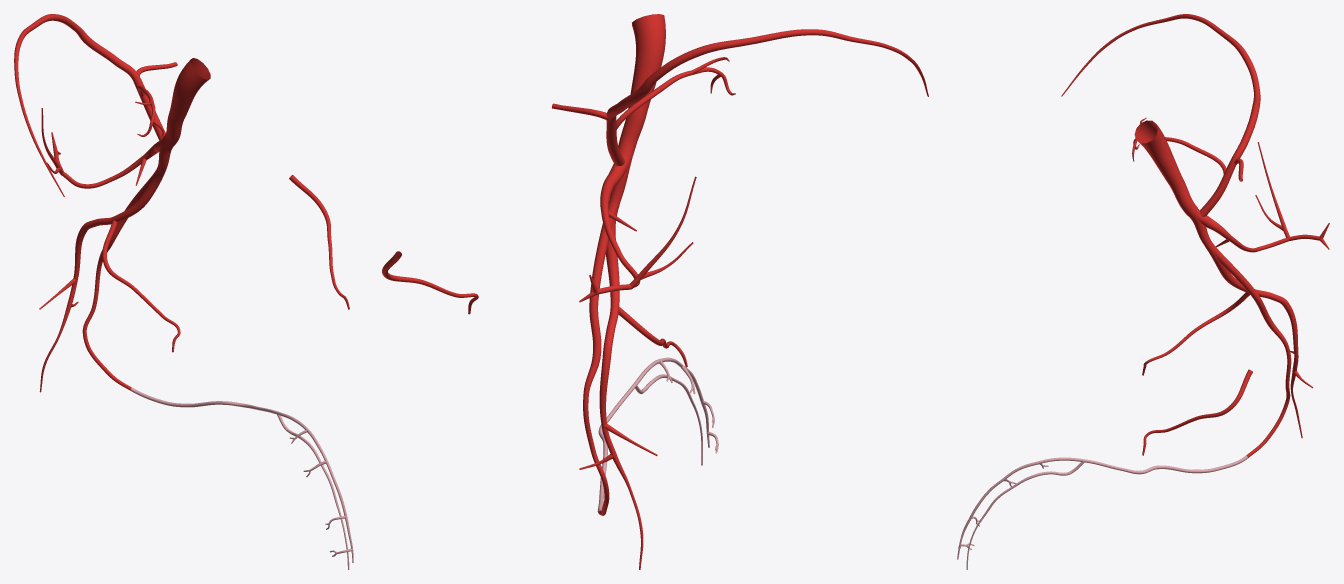
The model's file is circulatorio-internal-iliac-artery-r.glb.
3 views of the same model, side by side, from view 1: azimuth 30°, elevation 25°; view 2: azimuth 150°, elevation 25°; view 3: azimuth 270°, elevation 25° (orthographic). The views are drawn at different scales.
Visible parts, largest first — view 1: Internal iliac artery.r, Inferior gluteal artery.r, Iliacus branch of iliolumbar artery.r, Dorsal artery of penis.r, Superior gluteal artery.r, Internal pudendal artery.r, Obturator artery.r, Obturator artery.l, Deep artery of penis.r; view 2: Internal iliac artery.r, Inferior gluteal artery.r, Iliacus branch of iliolumbar artery.r, Internal pudendal artery.r, Superior gluteal artery.r, Dorsal artery of penis.r, Lumbar branch of iliolumbar artery.r, Obturator artery.l; view 3: Internal iliac artery.r, Iliacus branch of iliolumbar artery.r, Internal pudendal artery.r, Dorsal artery of penis.r, Superior gluteal artery.r, Inferior gluteal artery.r, Obturator artery.l, Obturator artery.r, Iliolumbar artery.r, Deep artery of penis.r.
Boxes of the visible parts, box(x1,y1,x2,y2) form: Internal iliac artery.r: box(163, 58, 210, 146); Inferior gluteal artery.r: box(39, 168, 165, 392); Iliacus branch of iliolumbar artery.r: box(14, 14, 140, 196); Dorsal artery of penis.r: box(130, 387, 353, 562); Superior gluteal artery.r: box(41, 108, 159, 188); Internal pudendal artery.r: box(82, 167, 165, 390); Obturator artery.r: box(102, 220, 180, 352); Obturator artery.l: box(289, 175, 349, 309); Deep artery of penis.r: box(277, 414, 349, 569); Internal iliac artery.r: box(618, 14, 665, 155); Inferior gluteal artery.r: box(579, 201, 657, 569); Iliacus branch of iliolumbar artery.r: box(606, 29, 928, 122); Internal pudendal artery.r: box(583, 204, 616, 515); Superior gluteal artery.r: box(579, 169, 696, 302); Dorsal artery of penis.r: box(597, 357, 718, 514); Lumbar branch of iliolumbar artery.r: box(616, 57, 735, 129); Obturator artery.l: box(382, 251, 478, 314); Internal iliac artery.r: box(1134, 120, 1197, 216); Iliacus branch of iliolumbar artery.r: box(1061, 14, 1260, 164); Internal pudendal artery.r: box(1212, 244, 1291, 457); Dorsal artery of penis.r: box(957, 456, 1247, 559); Superior gluteal artery.r: box(1204, 142, 1329, 252); Inferior gluteal artery.r: box(1205, 242, 1313, 438); Obturator artery.l: box(1142, 369, 1252, 455); Obturator artery.r: box(1142, 292, 1249, 375); Iliolumbar artery.r: box(1200, 162, 1236, 216); Deep artery of penis.r: box(966, 461, 1084, 569).
Bounding box in the file's own units: 0.179 × 0.2331 × 0.1709.
